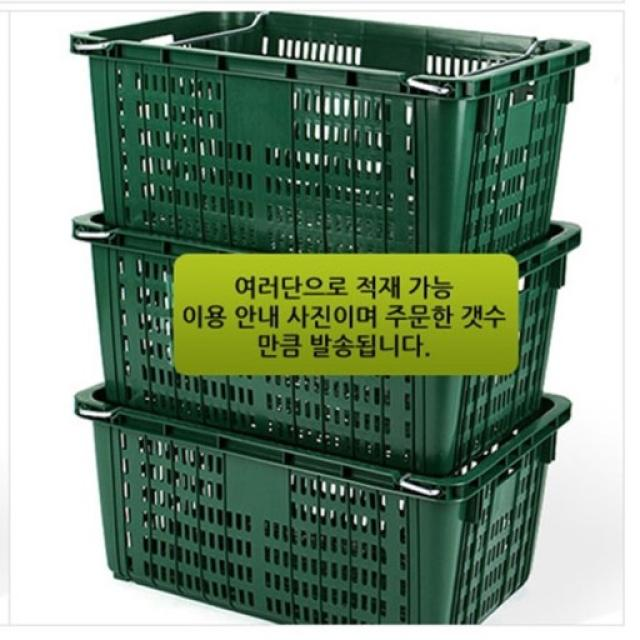basket: (71, 216, 582, 478), (70, 386, 572, 631)
